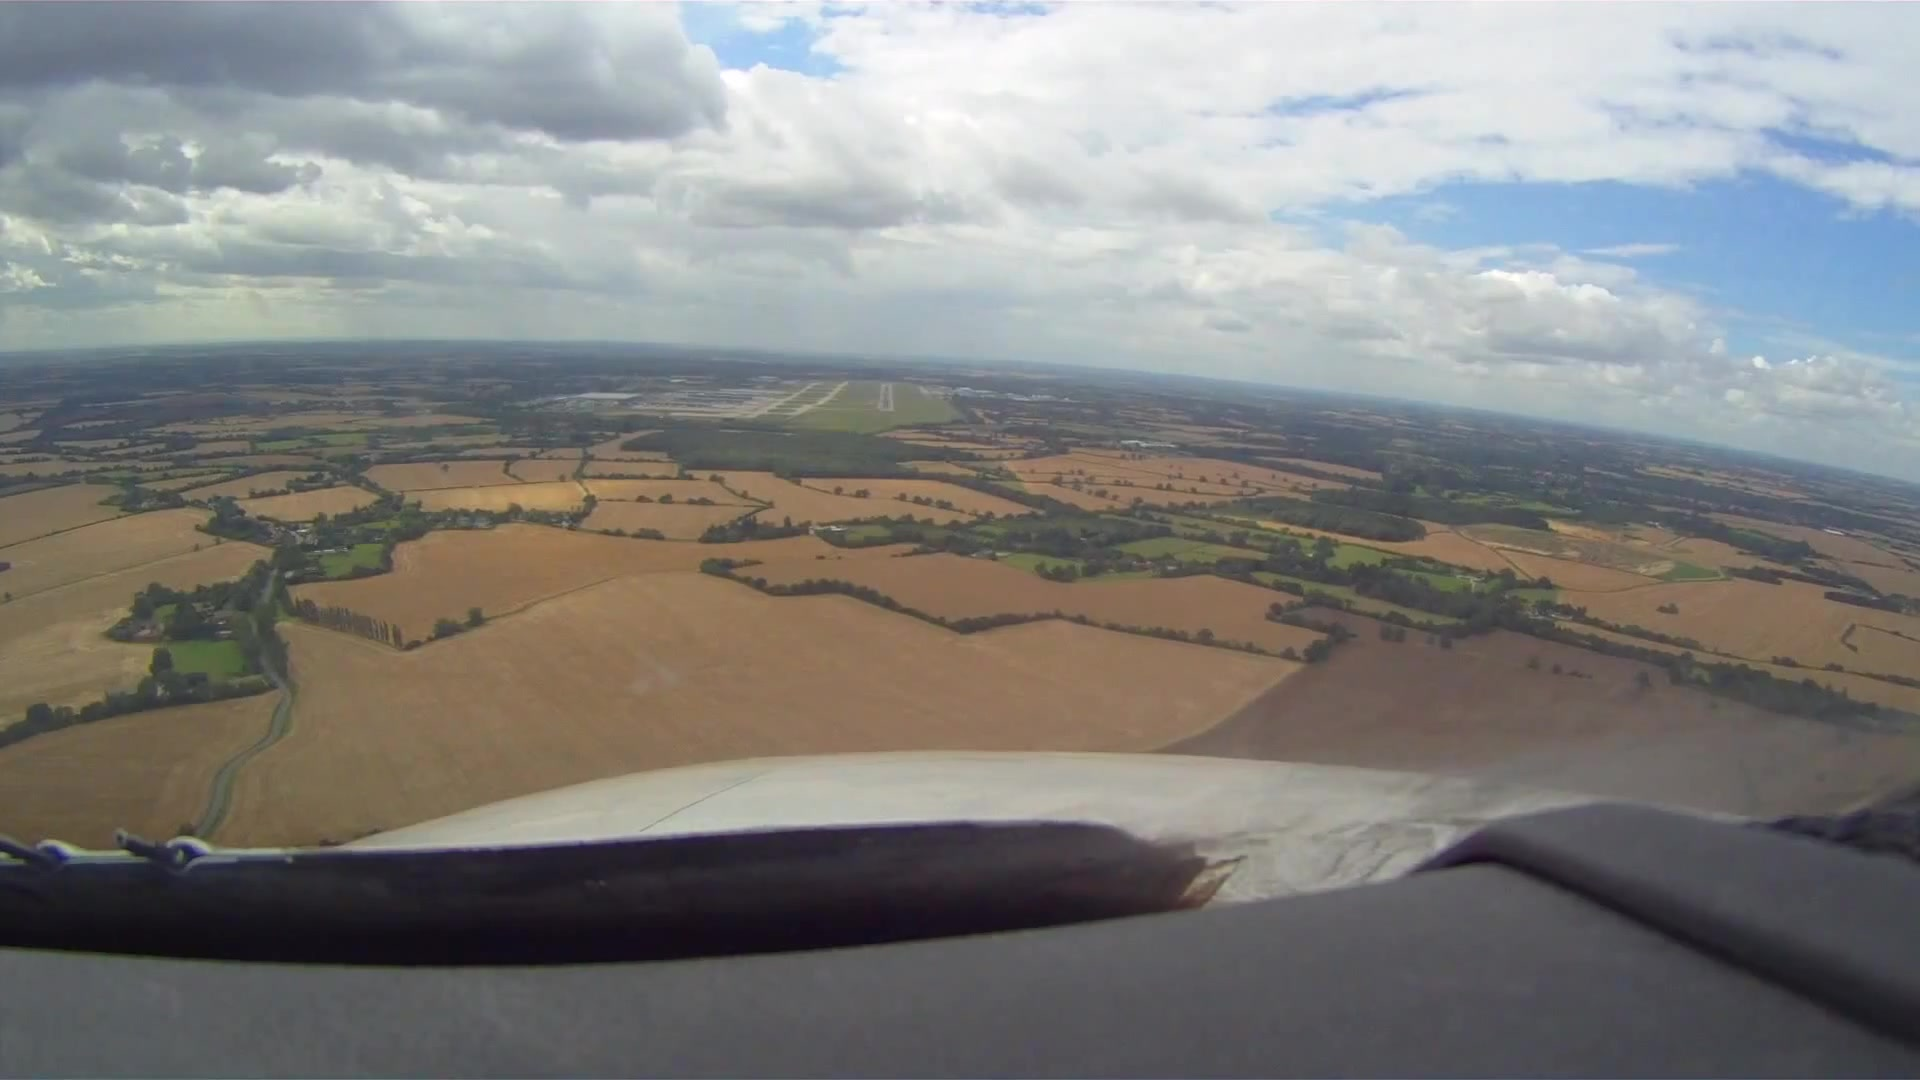runway: (876, 382, 894, 413)
